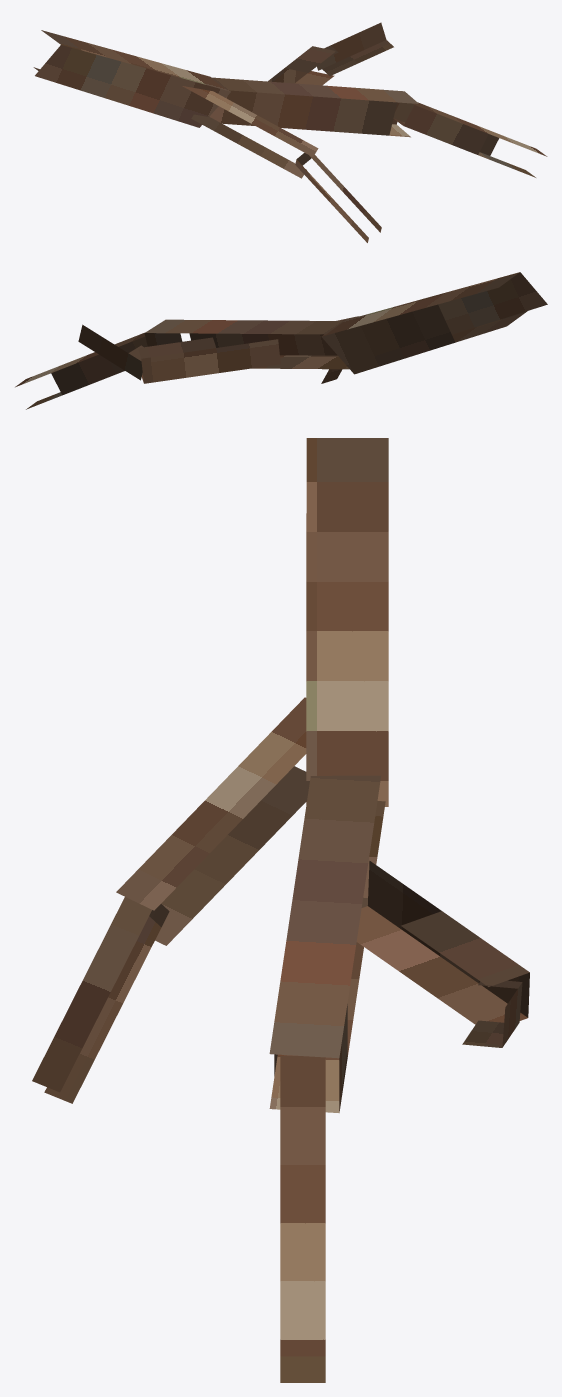
The model's file is pine_twig_branch_down.obj.
The picture shows the model from 3 angles, top to bottom: view 1: azimuth 30°, elevation 25°; view 2: azimuth 150°, elevation 25°; view 3: azimuth 270°, elevation 25°; orthographic projection. The views are drawn at different scales.
Parts seen in each view (by area): view 1: cube; view 2: cube; view 3: cube.
Boxes of the visible parts, left/top/right/bottom form: cube: left=33, top=22, right=547, bottom=242; cube: left=15, top=272, right=547, bottom=409; cube: left=32, top=438, right=529, bottom=1382.
Size of the model in its own units: 2.29 by 1.05 by 0.9764.
